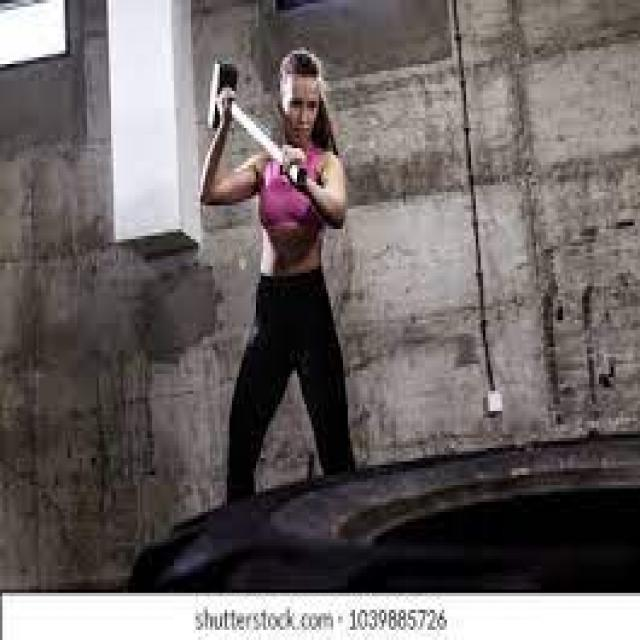hammer: (200, 46, 314, 198)
